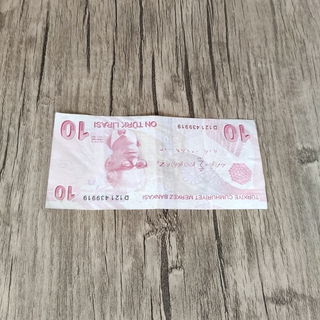10TLBack: (44, 110, 268, 210)
